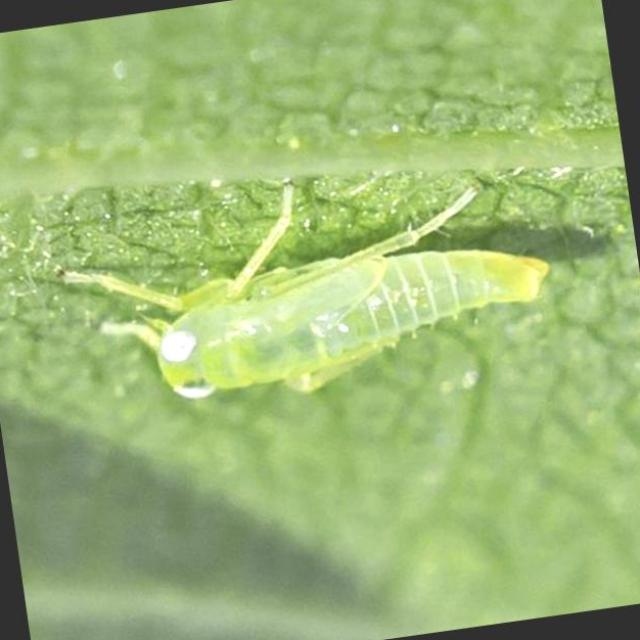green leaf hopper: (72, 184, 549, 399)
